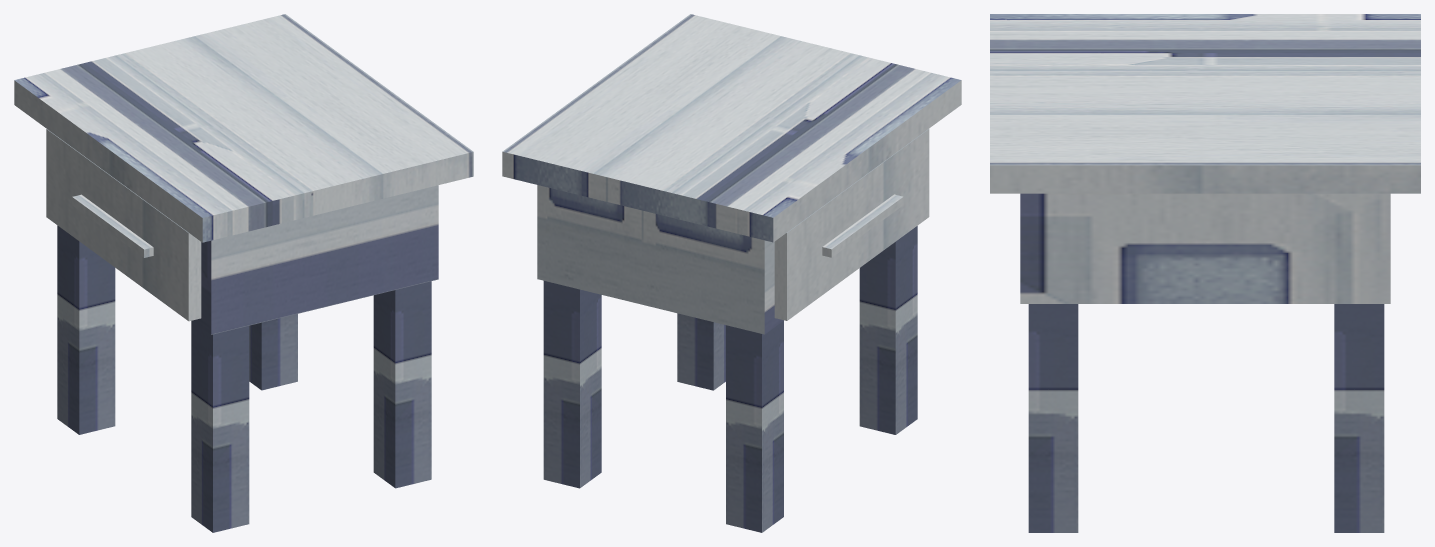
File: Bedside Table.fbx
3 renders of one model, left to right at view 1: azimuth 30°, elevation 25°; view 2: azimuth 150°, elevation 25°; view 3: azimuth 270°, elevation 25°, orthographic. The views are drawn at different scales.
Visible parts, largest first — view 1: Bedside Table; view 2: Bedside Table; view 3: Bedside Table.
Boxes of the visible parts, x1=… form: Bedside Table: x1=14, y1=14, x2=473, y2=532; Bedside Table: x1=502, y1=14, x2=961, y2=532; Bedside Table: x1=990, y1=14, x2=1420, y2=532.
Size of the model in its own units: 161 by 189 by 194.
